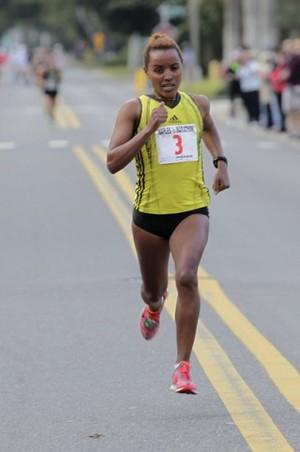person: (108, 29, 230, 396)
